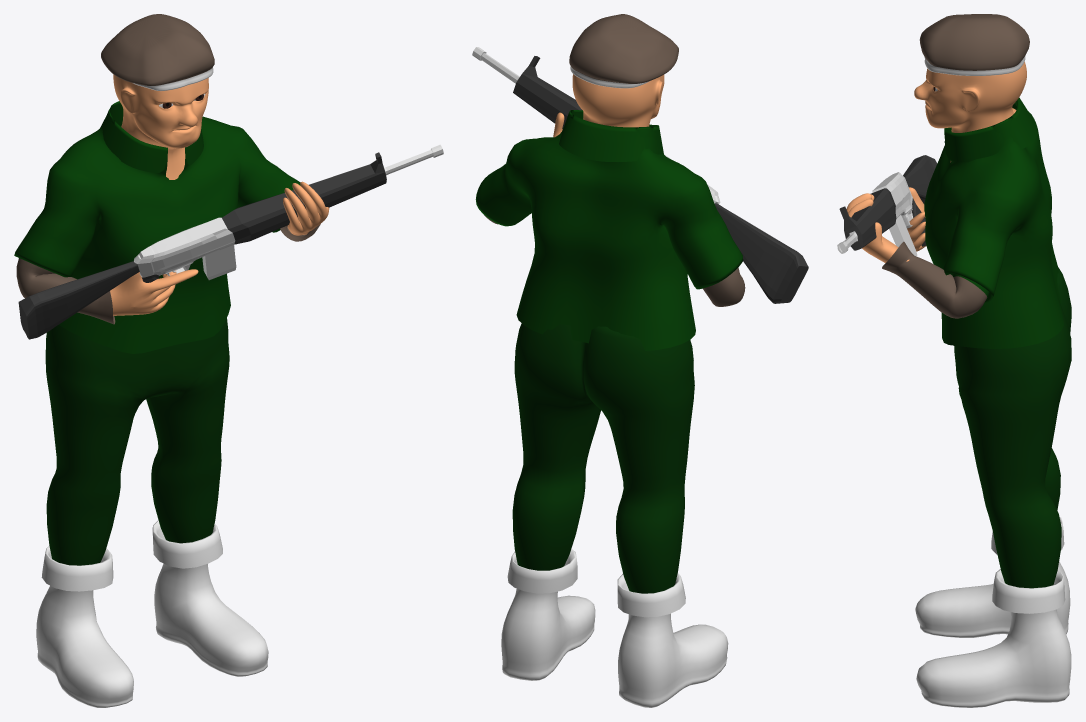
The model's file is asker (1).fbx.
3 renders of one model, left to right at view 1: azimuth 30°, elevation 25°; view 2: azimuth 150°, elevation 25°; view 3: azimuth 270°, elevation 25°, orthographic. The views are drawn at different scales.
Parts seen in each view (by area): view 1: Cube.001, Cube.010, Cube.009, Cube.003, Cube.006, Cube.011; view 2: Cube.001, Cube.010, Cube.009, Cube.003, Cube.011, Cube.006; view 3: Cube.001, Cube.010, Cube.009, Cube.006, Cube.011, Cube.003.
Part boxes in pixels (x1=…): Cube.001: x1=14, y1=101, x2=320, y2=353; Cube.010: x1=45, y1=318, x2=229, y2=565; Cube.009: x1=36, y1=520, x2=268, y2=707; Cube.003: x1=18, y1=144, x2=443, y2=339; Cube.006: x1=110, y1=74, x2=329, y2=315; Cube.011: x1=101, y1=14, x2=214, y2=90; Cube.001: x1=475, y1=110, x2=745, y2=350; Cube.010: x1=512, y1=323, x2=694, y2=593; Cube.009: x1=501, y1=549, x2=728, y2=707; Cube.003: x1=472, y1=47, x2=808, y2=303; Cube.011: x1=569, y1=14, x2=678, y2=88; Cube.006: x1=553, y1=74, x2=664, y2=137; Cube.001: x1=882, y1=97, x2=1063, y2=348; Cube.010: x1=954, y1=267, x2=1071, y2=588; Cube.009: x1=915, y1=517, x2=1071, y2=707; Cube.006: x1=846, y1=61, x2=1026, y2=262; Cube.011: x1=919, y1=14, x2=1029, y2=75; Cube.003: x1=837, y1=155, x2=937, y2=256.
Size of the model in its own units: 2224 by 3656 by 1190.
